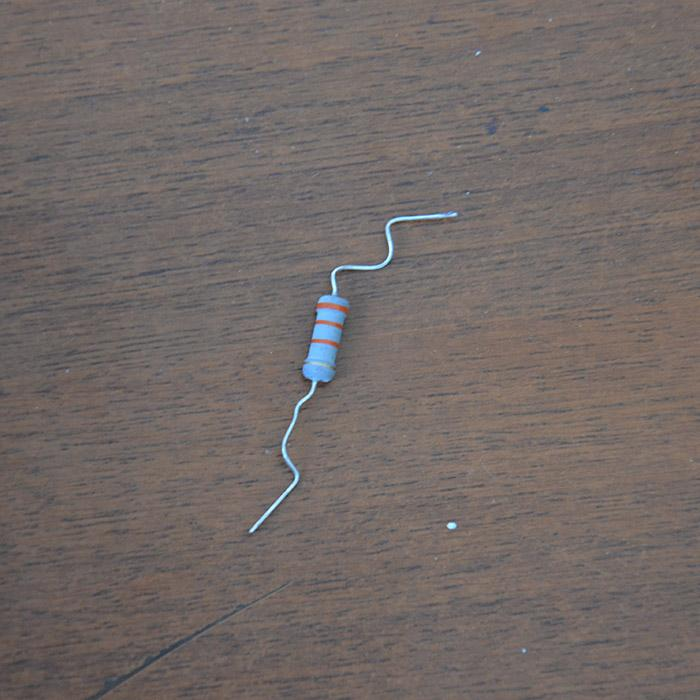resistor: (303, 294, 350, 383)
